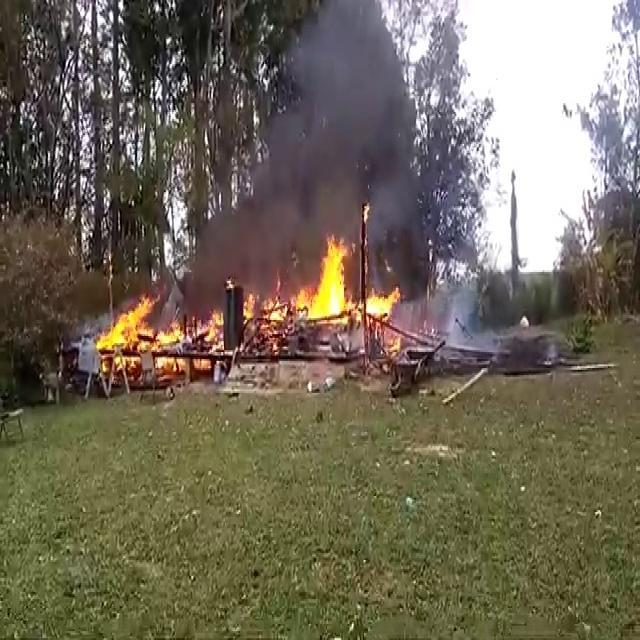Fire: (266, 230, 354, 324), (97, 298, 180, 376), (367, 281, 400, 322), (198, 309, 223, 342), (243, 292, 257, 324)
Smoke: (287, 0, 417, 146), (365, 160, 422, 280), (446, 272, 488, 334), (405, 282, 441, 340)
